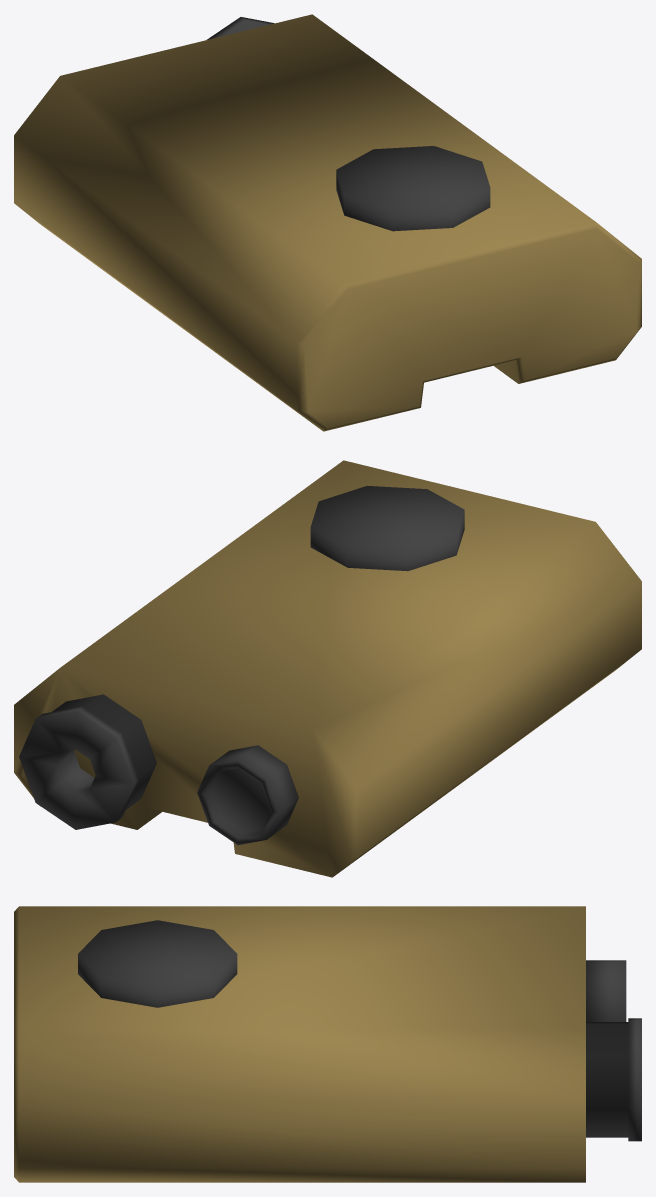
The model's file is Laser_Lamp.fbx.
3 views of the same model, one above another, from view 1: azimuth 30°, elevation 25°; view 2: azimuth 150°, elevation 25°; view 3: azimuth 270°, elevation 25° (orthographic).
Parts seen in each view (by area): view 1: AN_PEC; view 2: AN_PEC; view 3: AN_PEC.
Boxes of the visible parts, left/top/right/bottom form: AN_PEC: left=14, top=14, right=641, bottom=431; AN_PEC: left=14, top=460, right=641, bottom=877; AN_PEC: left=14, top=906, right=641, bottom=1182.
Size of the model in its own units: 110 by 49.88 by 173.
